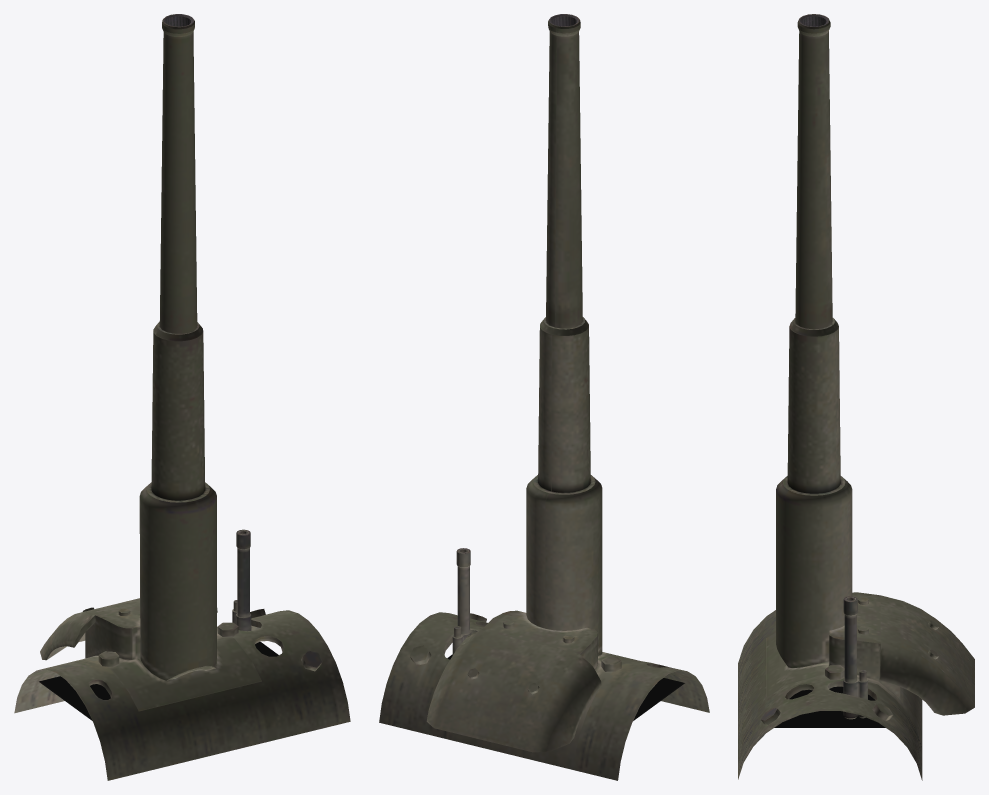
The model's file is Gun_07.glb.
3 renders of one model, left to right at view 1: azimuth 30°, elevation 25°; view 2: azimuth 150°, elevation 25°; view 3: azimuth 270°, elevation 25°, orthographic.
Visible parts, largest first — view 1: set_0_group_0; view 2: set_0_group_0; view 3: set_0_group_0.
Boxes of the visible parts, x1,y1,x2,y2 form: set_0_group_0: (14,14,350,780); set_0_group_0: (379,14,709,780); set_0_group_0: (738,14,974,780).
Size of the model in its own units: 0.4925 by 1.37 by 0.4219.
1 material, 1 textured.
